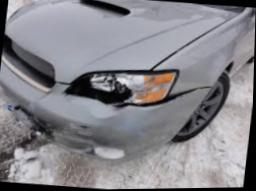Bonnet: (55, 75, 73, 91)
Bumper: (13, 88, 210, 162)
Light: (64, 70, 176, 106)
